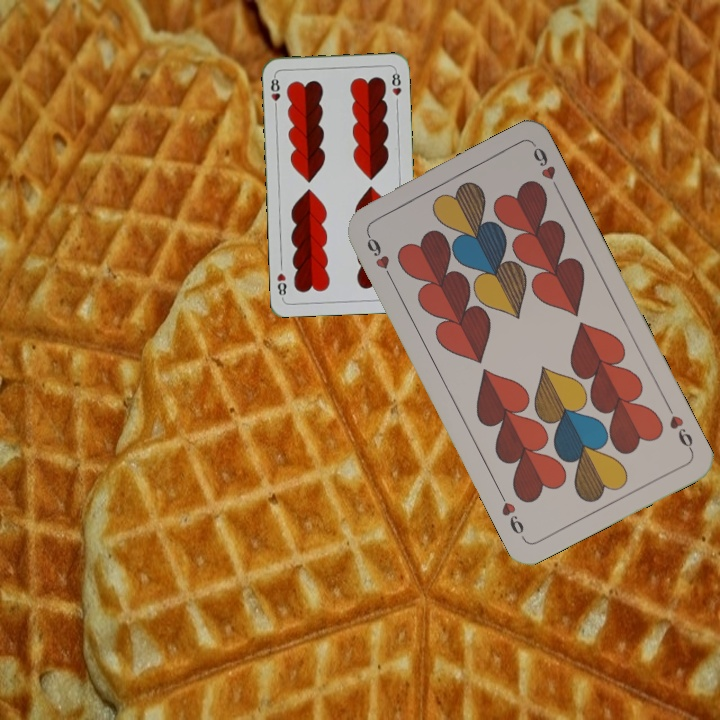H8: (267, 72, 282, 112)
H9: (662, 400, 696, 455), (362, 228, 396, 283)
